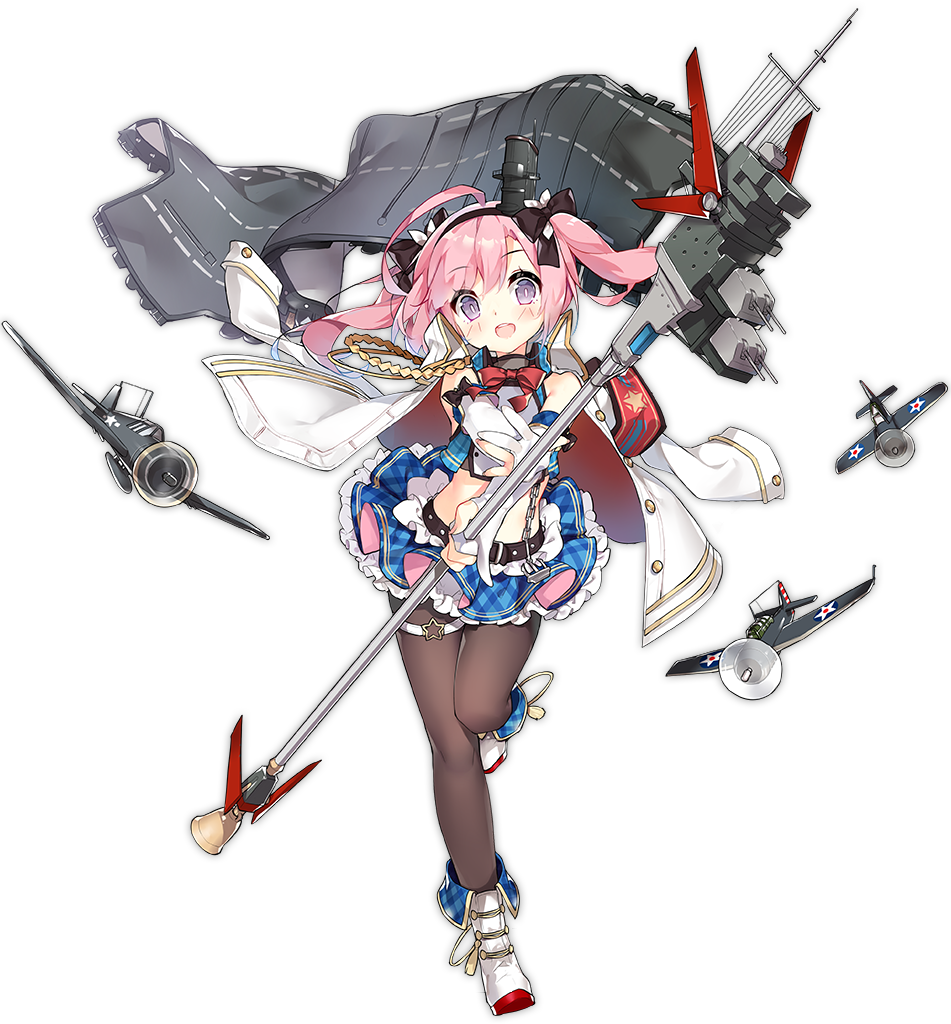person: (245, 198, 689, 936)
